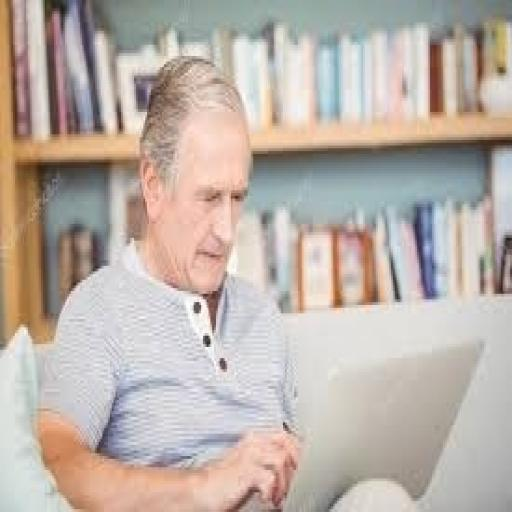using_laptop: (227, 300, 490, 510)
